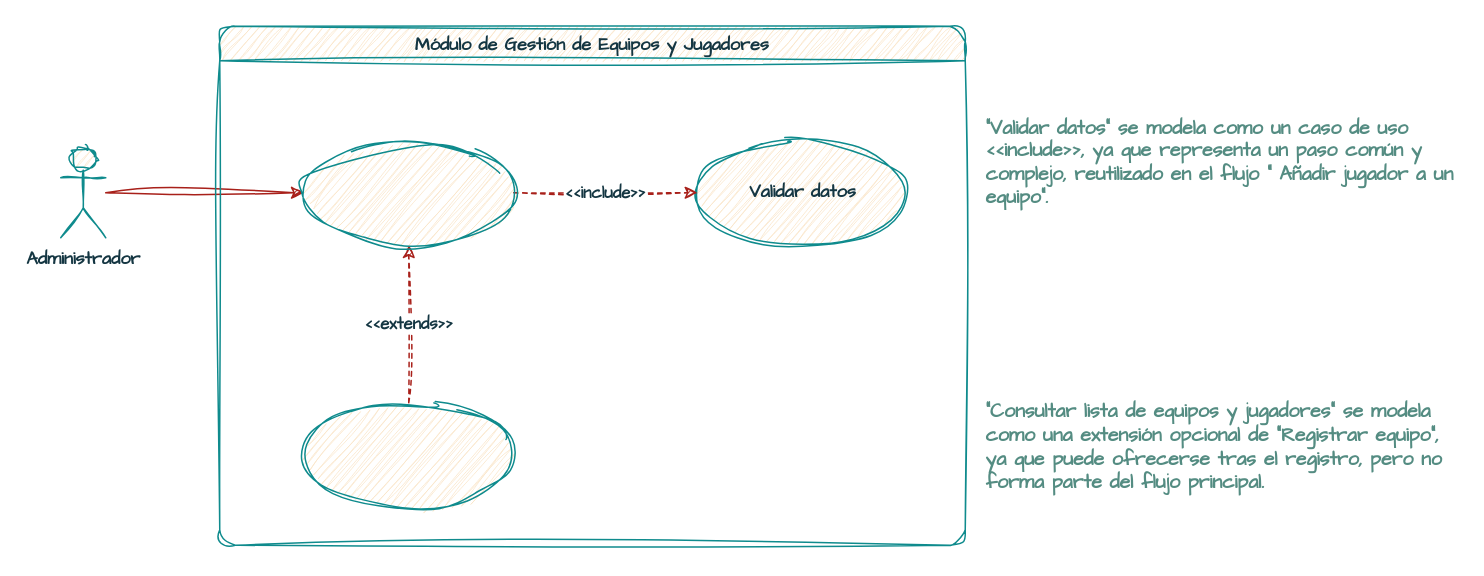
This 1484x576 diagram has some shape labels left out. Each missing label, with the box of its shape:
Consultar lista de equipos y jugadores: (302, 401, 514, 508)
Registrar equipo: (302, 139, 514, 245)
